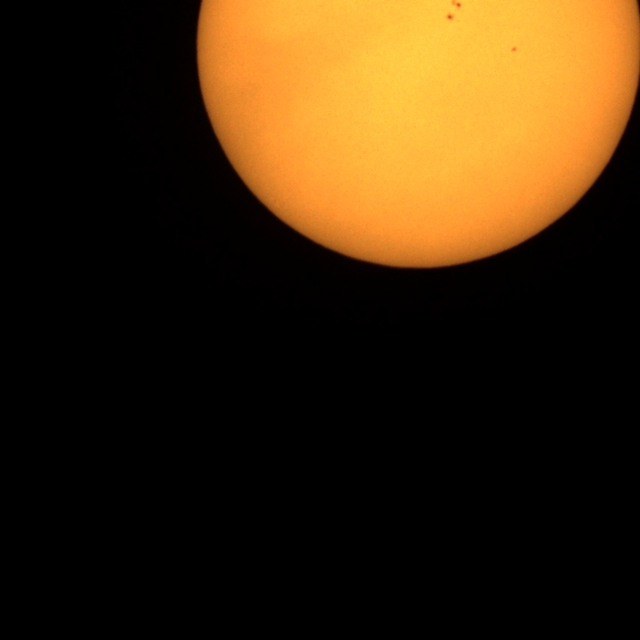sunspot: (445, 1, 462, 22), (449, 0, 462, 10), (446, 12, 456, 22), (510, 45, 518, 54)
